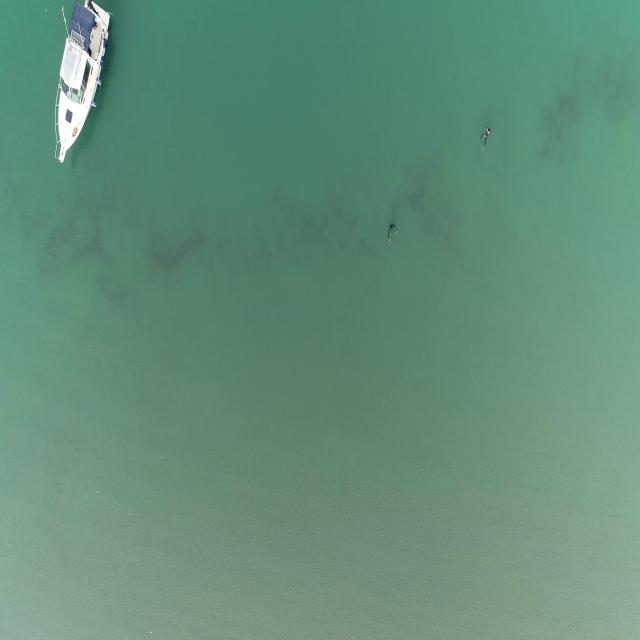boat: (51, 2, 112, 165)
person: (480, 127, 492, 156), (385, 223, 398, 245)
